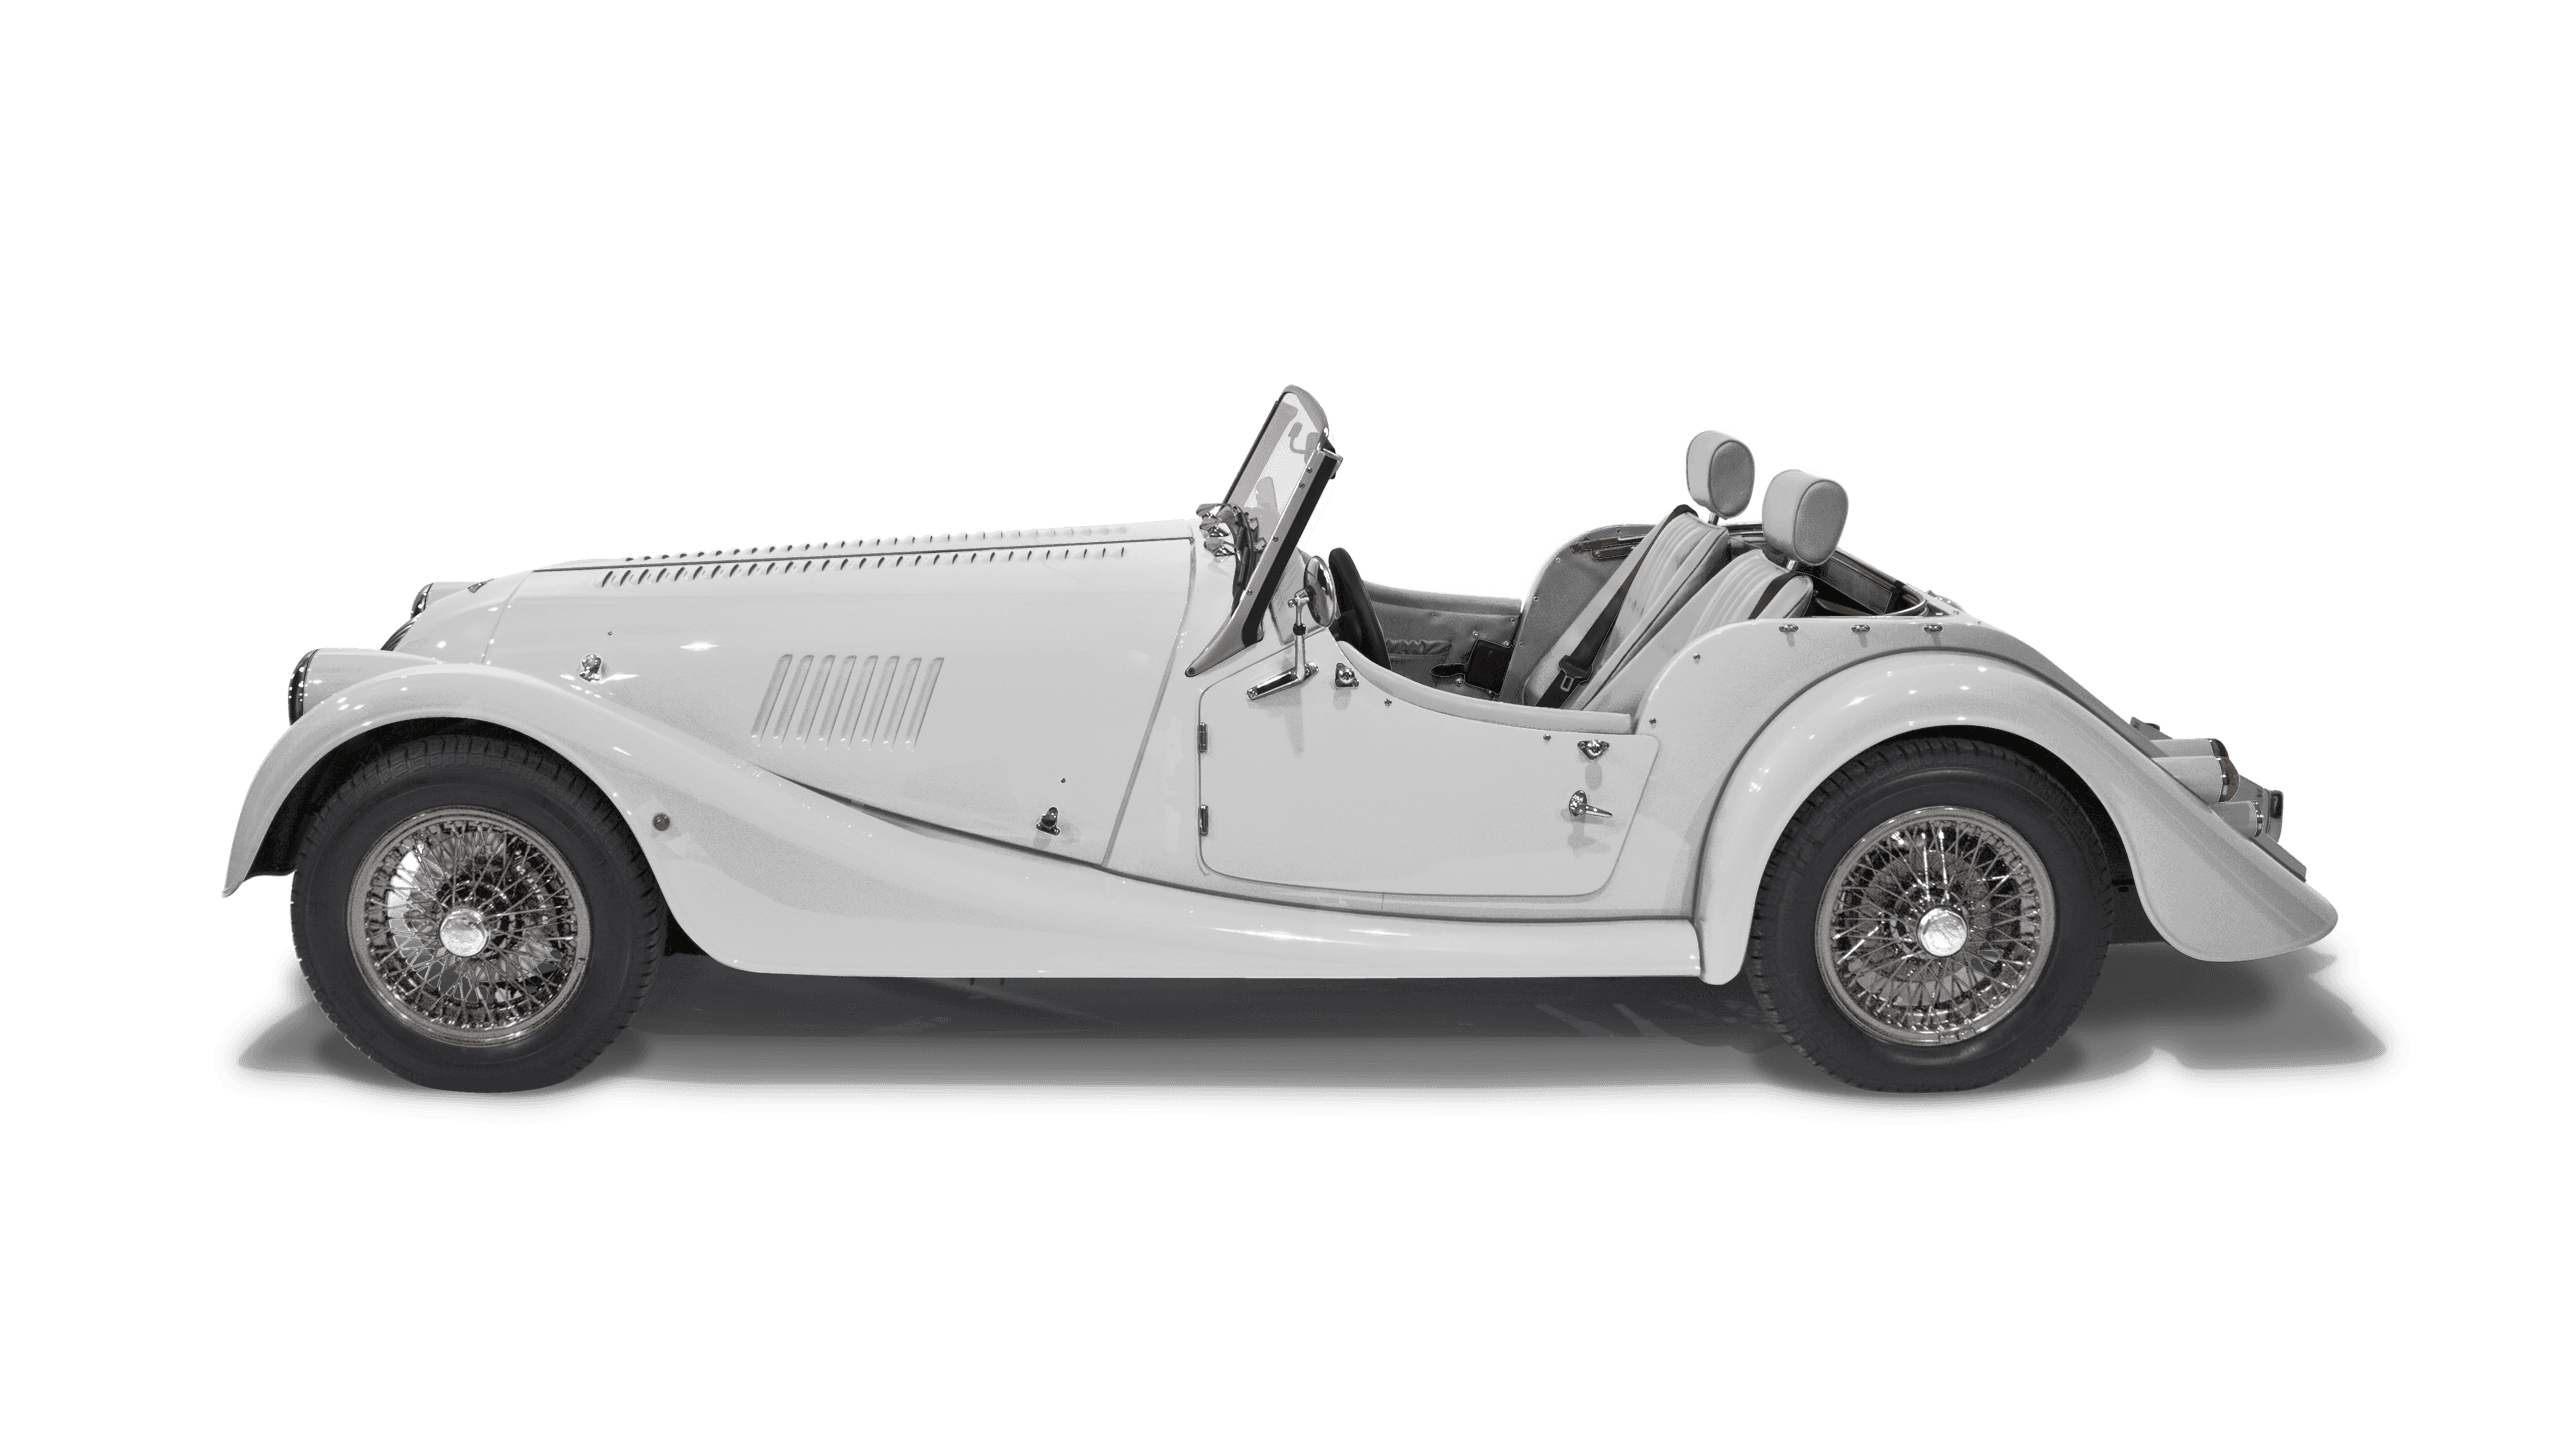car: (220, 376, 2393, 1102)
